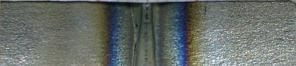soldas: (103, 2, 196, 66)
